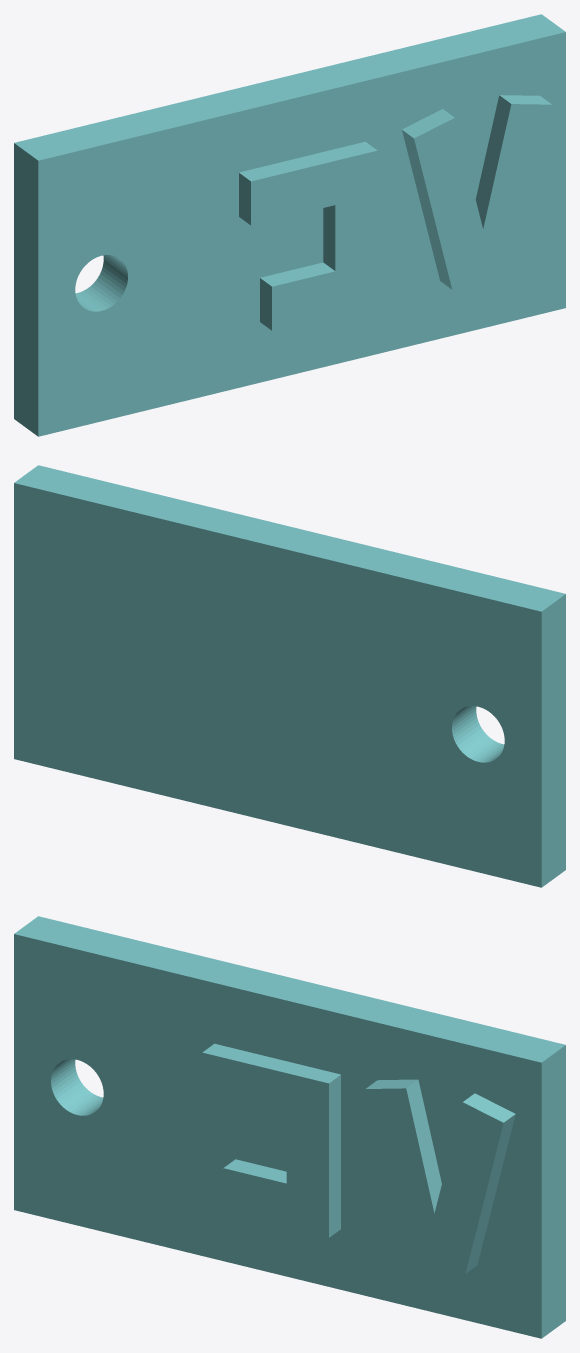
The model's file is ep7-keychain.glb.
The picture shows the model from 3 angles, top to bottom: view 1: azimuth 30°, elevation 25°; view 2: azimuth 150°, elevation 25°; view 3: azimuth 330°, elevation 25°; orthographic projection.
Visible parts, largest first — view 1: world; view 2: world; view 3: world.
Part boxes in pixels (x1,y1,x2,y2): world: (14, 14, 565, 436); world: (14, 465, 565, 887); world: (14, 916, 565, 1338).
Size of the model in its own units: 50 by 25 by 6.
